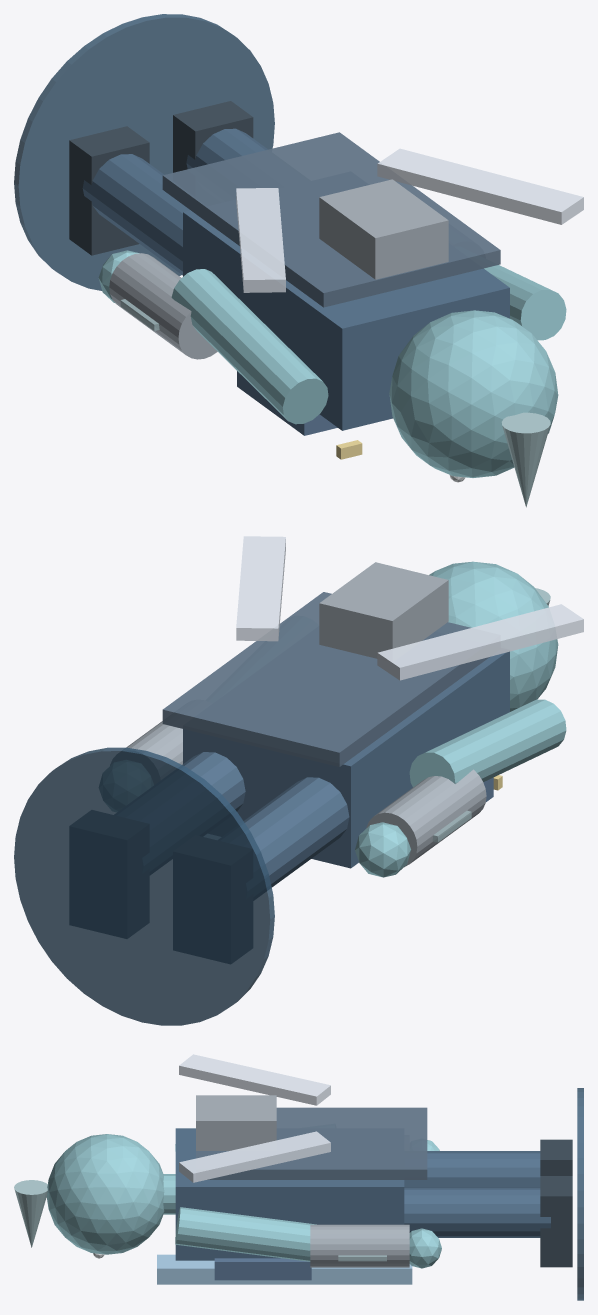
The model's file is SW_NPC_007_ghara_ironwake.glb.
The picture shows the model from 3 angles, top to bottom: view 1: azimuth 30°, elevation 25°; view 2: azimuth 150°, elevation 25°; view 3: azimuth 270°, elevation 25°; orthographic projection. The views are drawn at different scales.
Visible parts, largest first — view 1: round_base_plate, torso_uniform, head, storm_cloak, left_upper_arm, wingpack_core, left_leg, right_wing_rig, left_forearm_gauntlet, left_boot, left_wing_rig, right_upper_arm (+4 smaller); view 2: round_base_plate, storm_cloak, torso_uniform, wingpack_core, head, left_upper_arm, left_leg, left_wing_rig, left_forearm_gauntlet, right_wing_rig, left_hand, right_leg (+1 smaller); view 3: head, torso_uniform, storm_cloak, right_leg, right_upper_arm, left_leg, right_forearm_gauntlet, wingpack_core, rank_sash, right_wing_rig, left_wing_rig, right_boot (+7 smaller).
Part boxes in pixels (x1,y1,x2,y2): round_base_plate: (14,14,274,290); torso_uniform: (183,210,509,430); head: (389,310,558,477); storm_cloak: (162,132,500,307); left_upper_arm: (171,269,328,424); wingpack_core: (319,179,448,279); left_leg: (82,154,190,275); right_wing_rig: (377,148,583,224); left_forearm_gauntlet: (109,253,217,359); left_boot: (69,126,149,255); left_wing_rig: (236,188,285,292); right_upper_arm: (484,265,566,340); round_base_plate: (14,747,274,1025); storm_cloak: (162,592,489,766); torso_uniform: (183,651,509,868); wingpack_core: (319,562,448,658); head: (429,561,558,711); left_upper_arm: (409,699,566,787); left_leg: (243,777,349,887); left_wing_rig: (377,604,583,680); left_forearm_gauntlet: (366,769,486,867); right_wing_rig: (236,536,285,641); left_hand: (355,822,410,877); right_leg: (182,752,245,811); head: (46,1134,164,1254); torso_uniform: (175,1128,404,1260); storm_cloak: (196,1107,427,1179); right_leg: (404,1187,550,1237); right_upper_arm: (175,1207,316,1261); left_leg: (404,1151,540,1187); right_forearm_gauntlet: (310,1224,409,1267); wingpack_core: (196,1095,276,1150); rank_sash: (157,1254,412,1284); right_wing_rig: (179,1131,330,1182); left_wing_rig: (179,1054,330,1105); right_boot: (540,1176,572,1267).
Size of the model in its own units: 1.07 by 0.8064 by 2.16.
